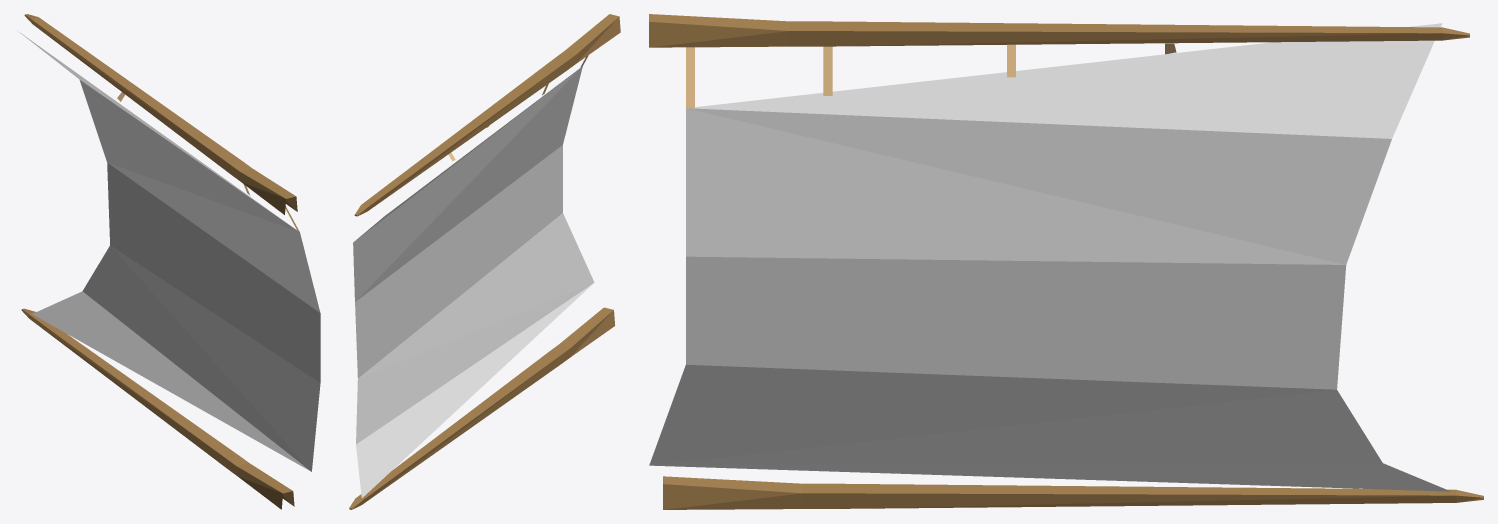
The model's file is obj_sail_6_0.obj.
3 views of the same model, side by side, from view 1: azimuth 30°, elevation 25°; view 2: azimuth 150°, elevation 25°; view 3: azimuth 270°, elevation 25° (orthographic). The views are drawn at different scales.
Bounding box in the file's own units: 0.375 × 1.83 × 2.84.
